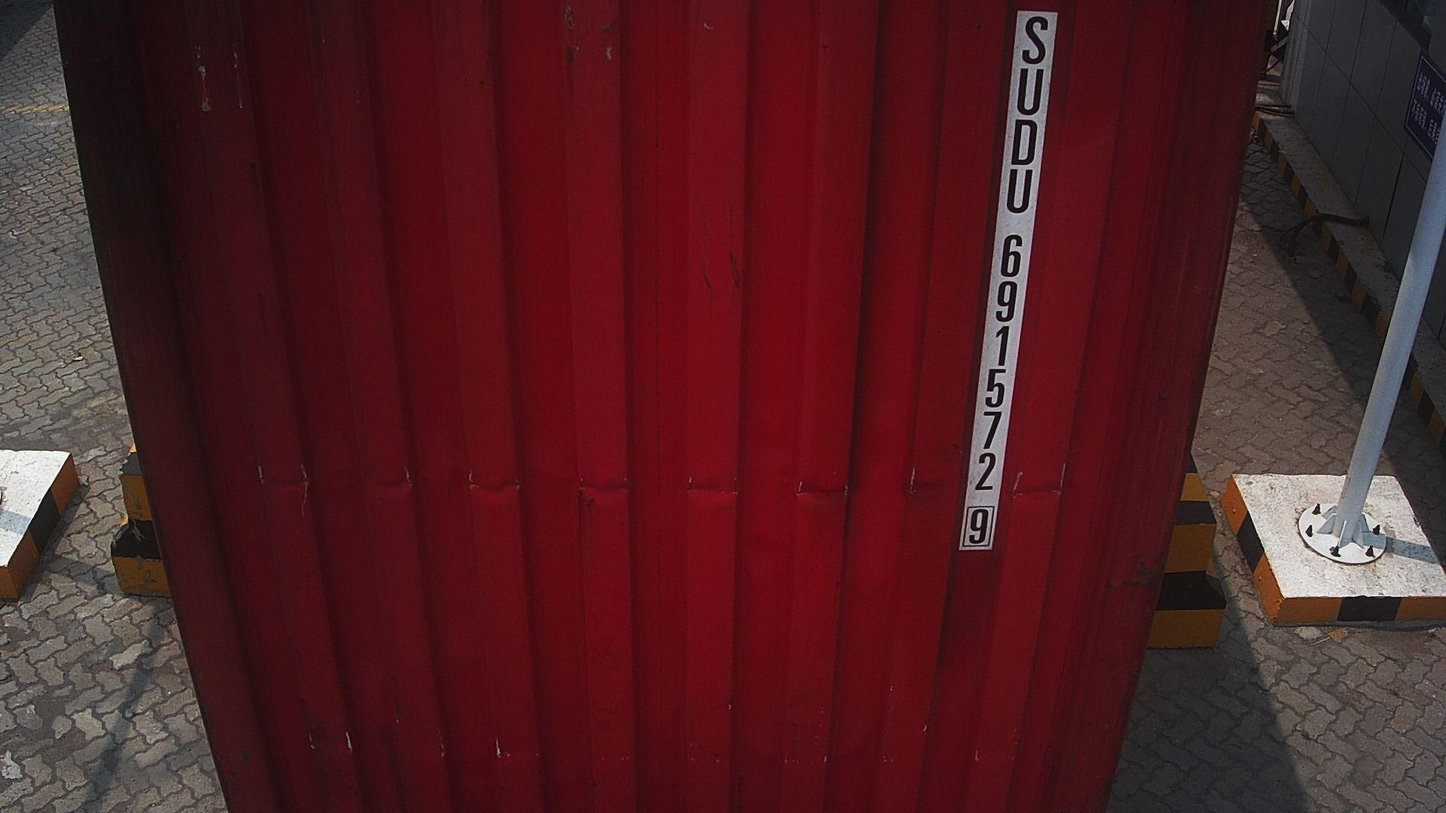container-numbers: (959, 4, 1056, 555)
